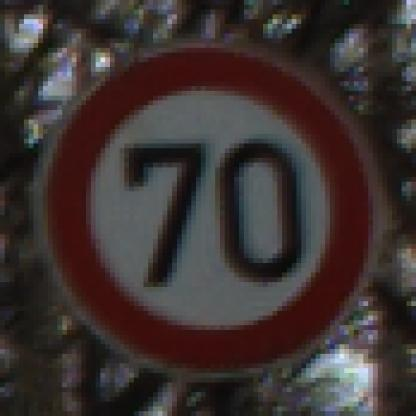Speed Limit 70: (41, 45, 378, 379)
